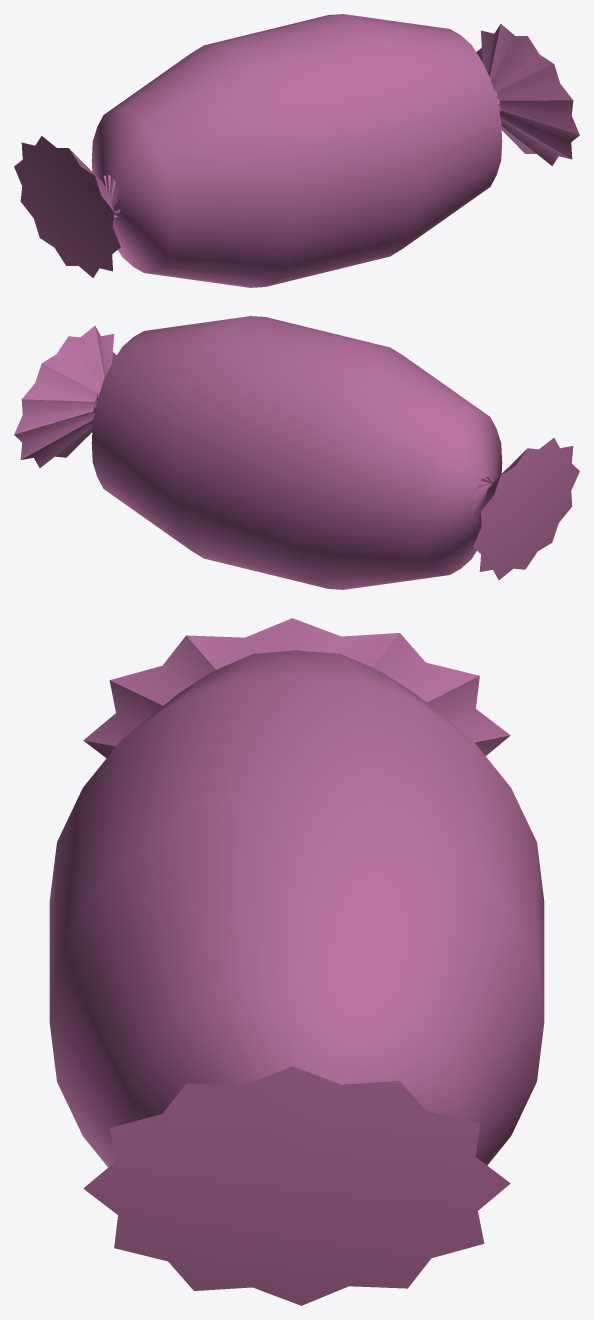
The model's file is caramelo.fbx.
The picture shows the model from 3 angles, top to bottom: view 1: azimuth 30°, elevation 25°; view 2: azimuth 150°, elevation 25°; view 3: azimuth 270°, elevation 25°; orthographic projection. The views are drawn at different scales.
Parts seen in each view (by area): view 1: pCylinder19; view 2: pCylinder19; view 3: pCylinder19.
Part boxes in pixels (x1,y1,x2,y2): pCylinder19: (14,14,579,287); pCylinder19: (14,316,579,589); pCylinder19: (49,618,544,1305).
Bounding box in the file's own units: 1.36 × 0.6261 × 0.6191.
